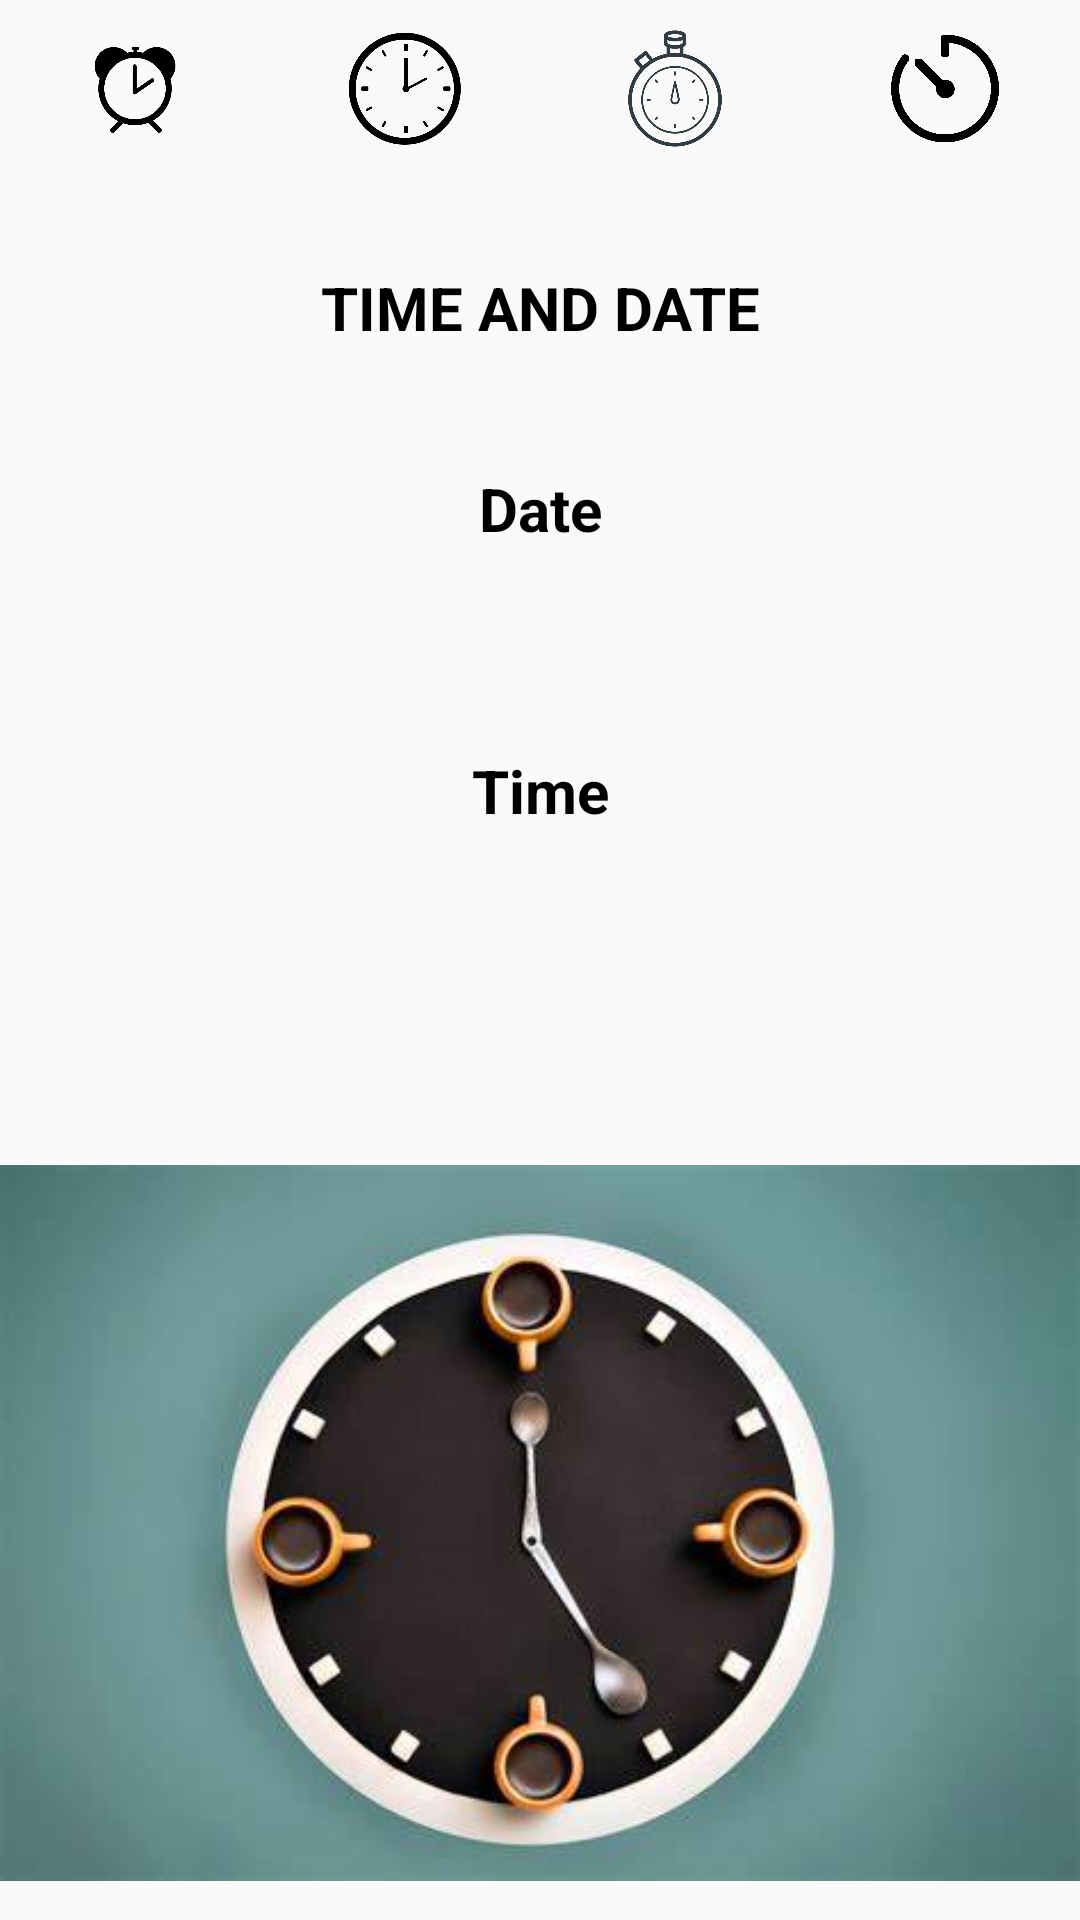

Point at icon controls on the screen. Image size 1080*1920, points as [x,y].
alarm nav: [135,90]
clock: [405,89]
stopwatch: [675,88]
timer: [945,88]
